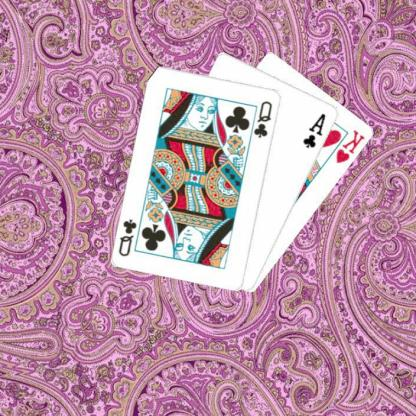AC: (302, 110, 329, 150)
KH: (335, 127, 368, 165)
QC: (253, 98, 276, 140), (118, 216, 140, 258)
